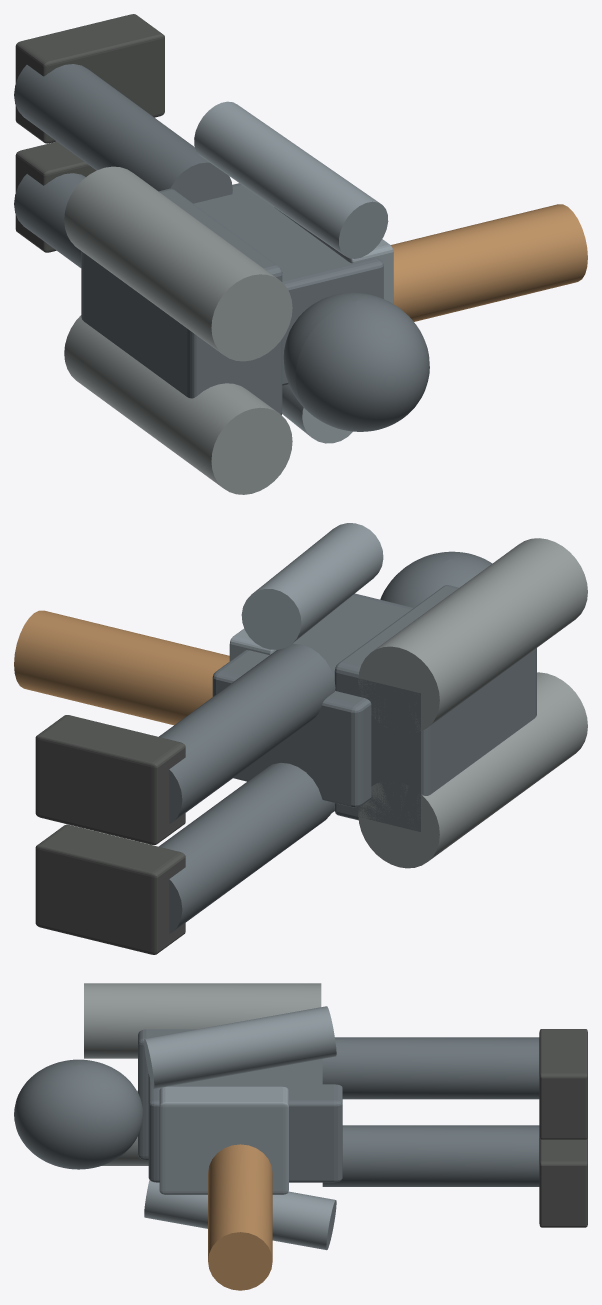
The model's file is s-u08-specter-flamethrower-lod1.glb.
3 views of the same model, one above another, from view 1: azimuth 30°, elevation 25°; view 2: azimuth 150°, elevation 25°; view 3: azimuth 270°, elevation 25° (orthographic). The views are drawn at different scales.
Visible parts, largest first — view 1: fuel_tank_1, fuel_tank_-1, soldier_0_helmet, soldier_0_flamer, soldier_0_leg_1, soldier_0_arm_1, soldier_0_backpack, soldier_0_torso, soldier_0_boot_1, soldier_0_leg_-1, soldier_0_boot_-1, soldier_0_arm_-1 (+1 smaller); view 2: fuel_tank_1, soldier_0_backpack, soldier_0_flamer, soldier_0_boot_-1, soldier_0_boot_1, fuel_tank_-1, soldier_0_leg_1, soldier_0_leg_-1, soldier_0_torso, soldier_0_arm_1, soldier_0_helmet, soldier_0_chest; view 3: soldier_0_leg_1, soldier_0_leg_-1, soldier_0_chest, fuel_tank_1, soldier_0_helmet, soldier_0_arm_1, soldier_0_flamer, soldier_0_torso, soldier_0_boot_1, soldier_0_arm_-1, soldier_0_boot_-1, soldier_0_backpack (+1 smaller).
Part boxes in pixels (left/top/right/bottom): fuel_tank_1: left=64, top=166, right=292, bottom=361; fuel_tank_-1: left=64, top=315, right=292, bottom=494; soldier_0_helmet: left=283, top=292, right=429, bottom=431; soldier_0_flamer: left=391, top=204, right=587, bottom=321; soldier_0_leg_1: left=14, top=64, right=232, bottom=203; soldier_0_arm_1: left=194, top=101, right=388, bottom=258; soldier_0_backpack: left=81, top=188, right=282, bottom=414; soldier_0_torso: left=193, top=183, right=383, bottom=385; soldier_0_boot_1: left=15, top=14, right=164, bottom=143; soldier_0_leg_-1: left=14, top=173, right=85, bottom=267; soldier_0_boot_-1: left=15, top=141, right=96, bottom=252; soldier_0_arm_-1: left=282, top=384, right=352, bottom=443; fuel_tank_1: left=358, top=538, right=587, bottom=732; soldier_0_backpack: left=334, top=585, right=536, bottom=831; soldier_0_flamer: left=14, top=610, right=229, bottom=725; soldier_0_boot_-1: left=35, top=824, right=185, bottom=954; soldier_0_boot_1: left=35, top=715, right=185, bottom=844; fuel_tank_-1: left=358, top=672, right=587, bottom=868; soldier_0_leg_1: left=159, top=643, right=335, bottom=823; soldier_0_leg_-1: left=159, top=763, right=334, bottom=933; soldier_0_torso: left=212, top=593, right=413, bottom=807; soldier_0_arm_1: left=241, top=523, right=383, bottom=649; soldier_0_helmet: left=380, top=551, right=492, bottom=607; soldier_0_chest: left=229, top=596, right=351, bottom=660; soldier_0_leg_1: left=322, top=1037, right=539, bottom=1099; soldier_0_leg_-1: left=322, top=1125, right=539, bottom=1186; soldier_0_chest: left=159, top=1086, right=288, bottom=1194; fuel_tank_1: left=84, top=983, right=321, bottom=1058; soldier_0_helmet: left=14, top=1059, right=143, bottom=1169; soldier_0_arm_1: left=144, top=1006, right=336, bottom=1088; soldier_0_flamer: left=208, top=1144, right=272, bottom=1290; soldier_0_torso: left=148, top=1059, right=342, bottom=1182; soldier_0_boot_1: left=539, top=1029, right=587, bottom=1139; soldier_0_arm_-1: left=144, top=1180, right=336, bottom=1250; soldier_0_boot_-1: left=539, top=1136, right=587, bottom=1227; soldier_0_backpack: left=138, top=1029, right=196, bottom=1160.
Size of what is drawn, in the model's own units: 1.56 by 0.9312 by 2.13.
